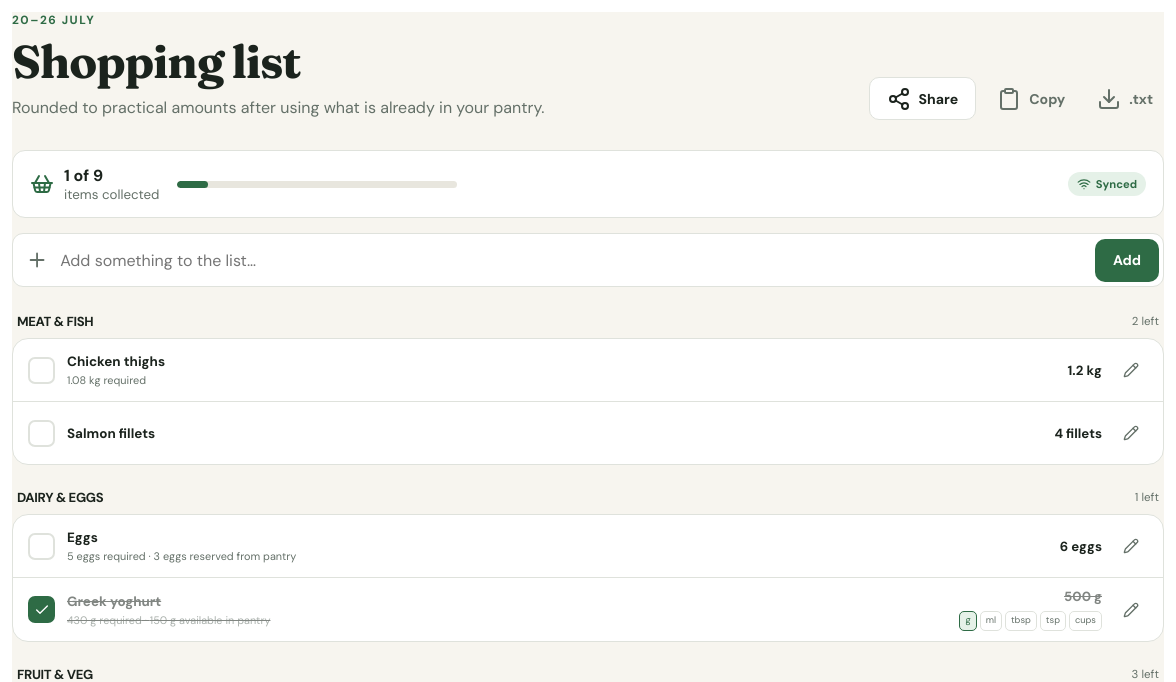
Test: ShoppingPage controls › lets a shopper edit an ingredient name inline
Click the button named "Edit Chicken thighs" at (1131, 370), box [1114, 352, 1148, 388]
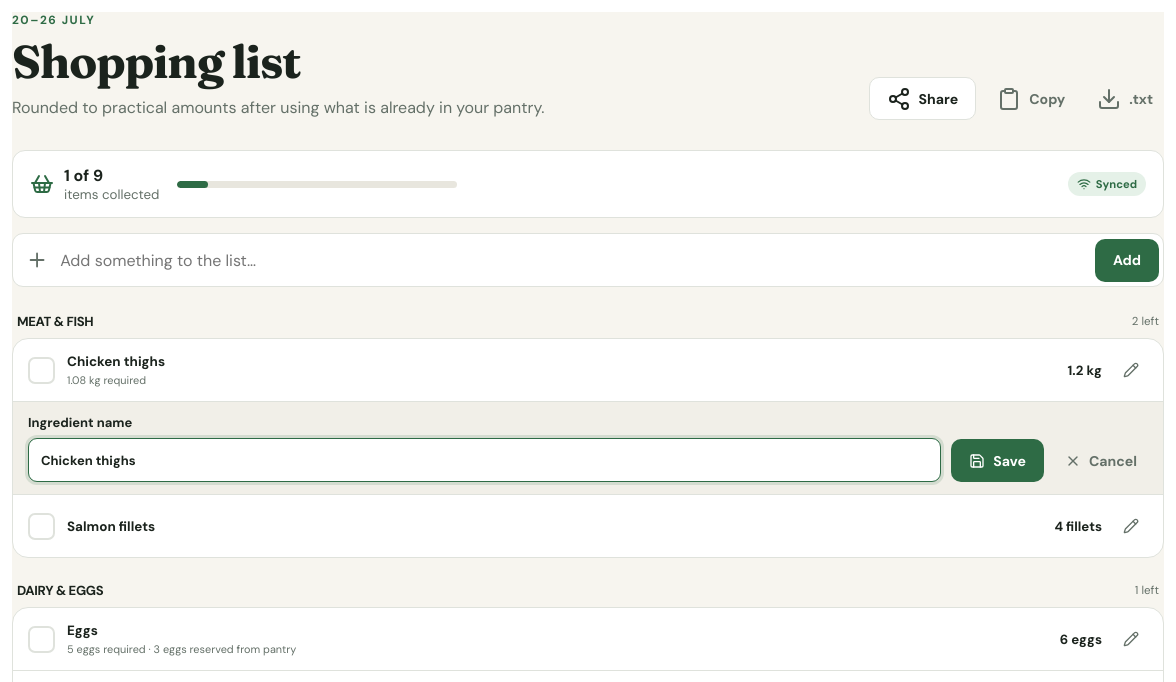
Replace the text in the field labelled "Ingredient name" with "Chicken thigh fillets" at (485, 460), box [28, 438, 941, 482]
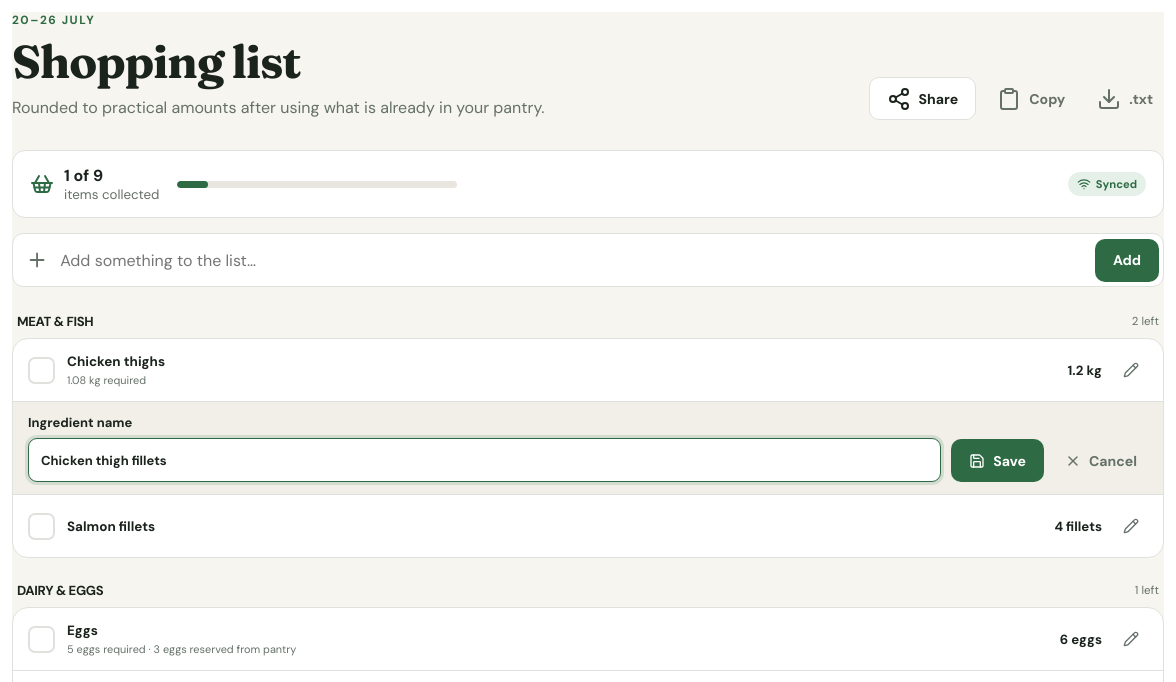
Click the button "Save" at (998, 461), box [951, 439, 1044, 482]
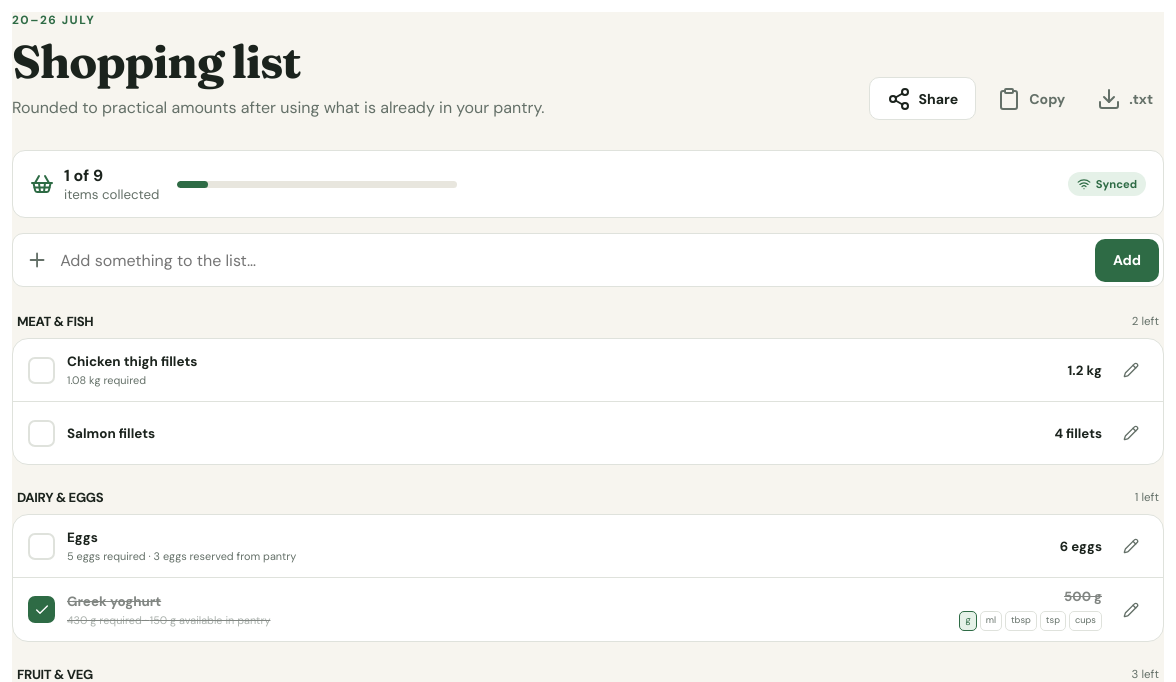
Expected: the field labelled "Ingredient name" is not shown
Expected: the text "Chicken thigh fillets" is shown, [67, 353, 197, 370]
